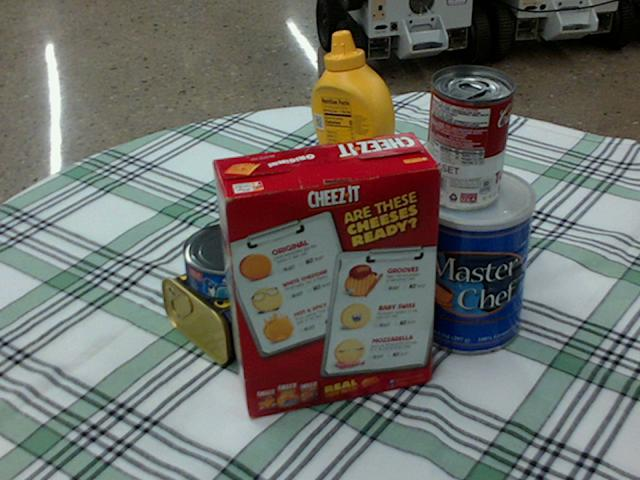cracker_box: (210, 132, 439, 416)
gelatin_box: (296, 176, 390, 246)
master_chef_can: (411, 164, 536, 354)
mug: (273, 213, 373, 330)
mustard_bottle: (310, 31, 406, 224)
potted_meat_can: (163, 251, 297, 363)
sugar_box: (347, 177, 524, 300)
tomato_soup_can: (423, 66, 512, 209)
tuna_fish_can: (182, 221, 277, 302)
